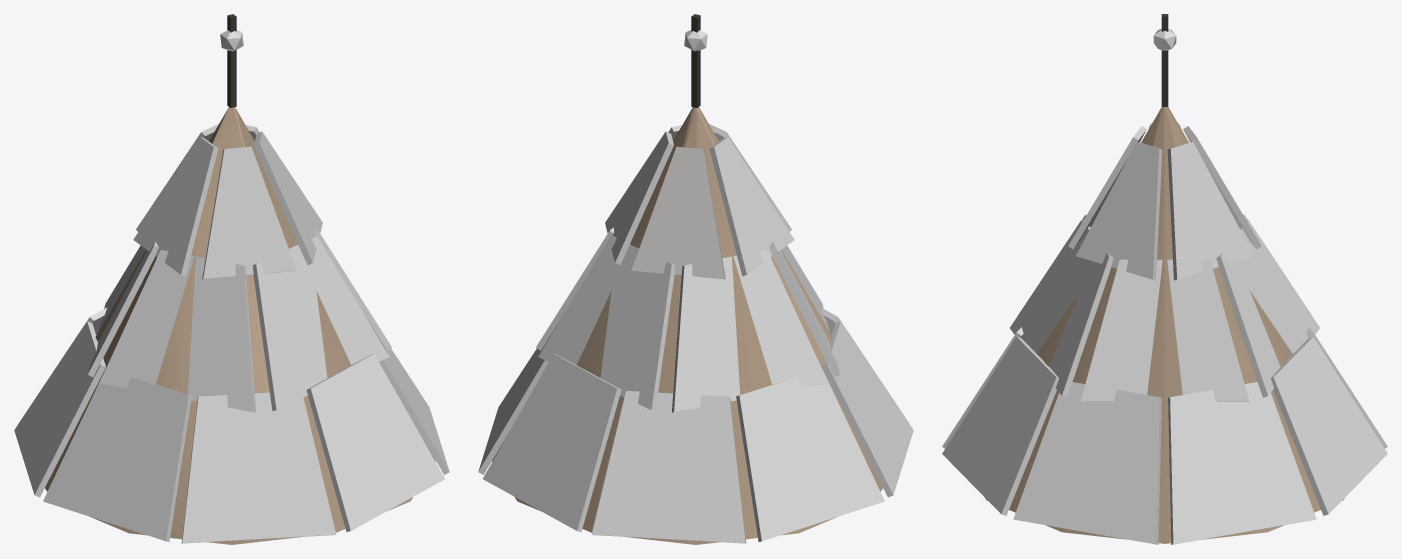
File: Kit_RealKeep_CBR_Fractured.fbx
3 views of the same model, side by side, from view 1: azimuth 30°, elevation 25°; view 2: azimuth 150°, elevation 25°; view 3: azimuth 270°, elevation 25° (orthographic).
Visible parts, largest first — view 1: Kit_RealKeep_CBR_frag_10, Kit_RealKeep_CBR_frag_16, Kit_RealKeep_CBR_frag_09, Kit_RealKeep_CBR_frag_03, Kit_RealKeep_CBR_frag_11, Kit_RealKeep_CBR_frag_14, Kit_RealKeep_CBR_frag_01, Kit_RealKeep_CBR_frag_08, Kit_RealKeep_CBR_frag_12, Kit_RealKeep_CBR_frag_13, Kit_RealKeep_CBR_frag_02, Kit_RealKeep_CBR_frag_15; view 2: Kit_RealKeep_CBR_frag_02, Kit_RealKeep_CBR_frag_07, Kit_RealKeep_CBR_frag_16, Kit_RealKeep_CBR_frag_08, Kit_RealKeep_CBR_frag_06, Kit_RealKeep_CBR_frag_13, Kit_RealKeep_CBR_frag_09, Kit_RealKeep_CBR_frag_01, Kit_RealKeep_CBR_frag_05, Kit_RealKeep_CBR_frag_14, Kit_RealKeep_CBR_frag_04, Kit_RealKeep_CBR_frag_03 (+1 smaller); view 3: Kit_RealKeep_CBR_frag_05, Kit_RealKeep_CBR_frag_12, Kit_RealKeep_CBR_frag_03, Kit_RealKeep_CBR_frag_16, Kit_RealKeep_CBR_frag_15, Kit_RealKeep_CBR_frag_06, Kit_RealKeep_CBR_frag_11, Kit_RealKeep_CBR_frag_02, Kit_RealKeep_CBR_frag_04, Kit_RealKeep_CBR_frag_01, Kit_RealKeep_CBR_frag_07, Kit_RealKeep_CBR_frag_10.
Part boxes in pixels (bbox=[...]): Kit_RealKeep_CBR_frag_10: bbox=[181, 391, 335, 543]; Kit_RealKeep_CBR_frag_16: bbox=[133, 124, 322, 279]; Kit_RealKeep_CBR_frag_09: bbox=[43, 370, 191, 541]; Kit_RealKeep_CBR_frag_03: bbox=[235, 108, 435, 532]; Kit_RealKeep_CBR_frag_11: bbox=[306, 354, 444, 532]; Kit_RealKeep_CBR_frag_14: bbox=[99, 250, 255, 412]; Kit_RealKeep_CBR_frag_01: bbox=[89, 14, 336, 544]; Kit_RealKeep_CBR_frag_08: bbox=[14, 321, 105, 497]; Kit_RealKeep_CBR_frag_12: bbox=[379, 348, 449, 474]; Kit_RealKeep_CBR_frag_13: bbox=[88, 242, 158, 377]; Kit_RealKeep_CBR_frag_02: bbox=[45, 113, 225, 491]; Kit_RealKeep_CBR_frag_15: bbox=[314, 227, 391, 350]; Kit_RealKeep_CBR_frag_02: bbox=[538, 107, 838, 544]; Kit_RealKeep_CBR_frag_07: bbox=[592, 391, 746, 543]; Kit_RealKeep_CBR_frag_16: bbox=[605, 124, 794, 279]; Kit_RealKeep_CBR_frag_08: bbox=[736, 370, 884, 541]; Kit_RealKeep_CBR_frag_06: bbox=[483, 354, 621, 532]; Kit_RealKeep_CBR_frag_13: bbox=[672, 250, 828, 412]; Kit_RealKeep_CBR_frag_09: bbox=[822, 321, 913, 497]; Kit_RealKeep_CBR_frag_01: bbox=[684, 14, 882, 491]; Kit_RealKeep_CBR_frag_05: bbox=[478, 348, 548, 474]; Kit_RealKeep_CBR_frag_14: bbox=[769, 242, 839, 377]; Kit_RealKeep_CBR_frag_04: bbox=[492, 291, 622, 532]; Kit_RealKeep_CBR_frag_03: bbox=[630, 108, 692, 248]; Kit_RealKeep_CBR_frag_05: bbox=[1168, 382, 1316, 544]; Kit_RealKeep_CBR_frag_12: bbox=[1013, 382, 1161, 544]; Kit_RealKeep_CBR_frag_03: bbox=[985, 107, 1239, 543]; Kit_RealKeep_CBR_frag_16: bbox=[1068, 123, 1261, 280]; Kit_RealKeep_CBR_frag_15: bbox=[1080, 259, 1249, 401]; Kit_RealKeep_CBR_frag_06: bbox=[1271, 336, 1387, 515]; Kit_RealKeep_CBR_frag_11: bbox=[942, 336, 1058, 515]; Kit_RealKeep_CBR_frag_02: bbox=[1168, 107, 1319, 397]; Kit_RealKeep_CBR_frag_04: bbox=[1240, 291, 1344, 535]; Kit_RealKeep_CBR_frag_01: bbox=[1141, 14, 1176, 142]; Kit_RealKeep_CBR_frag_07: bbox=[1306, 327, 1387, 448]; Kit_RealKeep_CBR_frag_10: bbox=[942, 327, 1023, 448].
Size of what is drawn, in the model's own units: 2.01 by 2.2 by 2.01.
